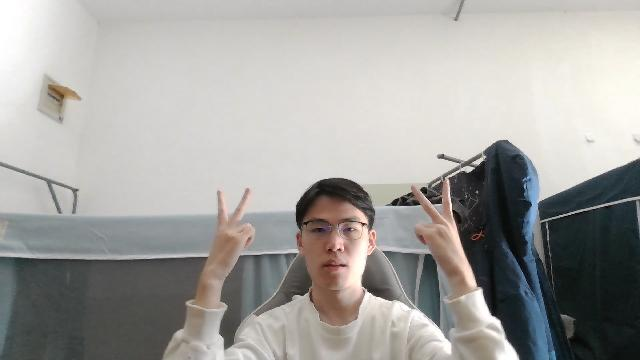yes: (406, 177, 472, 282), (201, 184, 259, 281)
